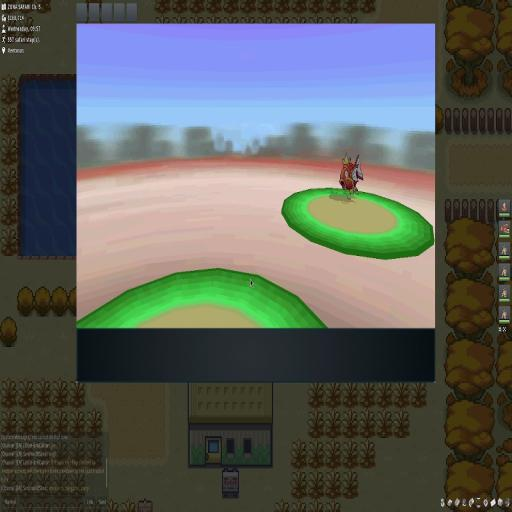MAGIKARP: (336, 154, 362, 201)
